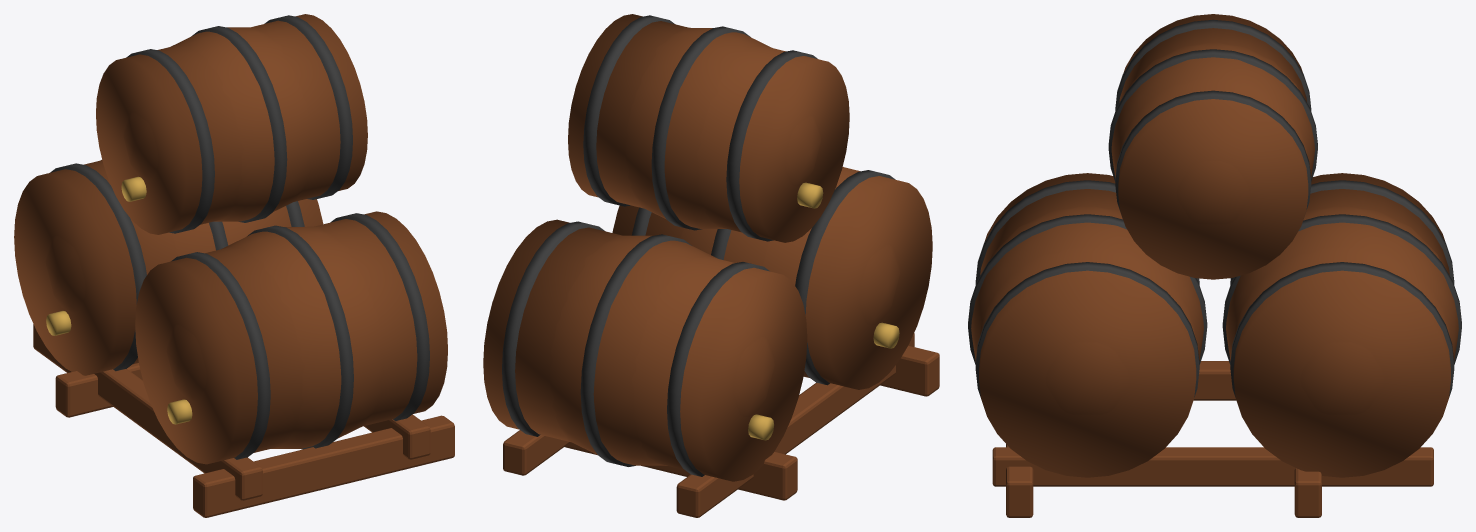
The model's file is botti.glb.
3 views of the same model, side by side, from view 1: azimuth 30°, elevation 25°; view 2: azimuth 150°, elevation 25°; view 3: azimuth 270°, elevation 25° (orthographic). The views are drawn at different scales.
Parts seen in each view (by area): view 1: Cylinder, Cylinder.010, Cylinder.005, Icosphere, Icosphere.002, Cube, Cube.002, Icosphere.001, Cylinder.002, Cylinder.001, Cylinder.003, Cylinder.012 (+8 smaller); view 2: Cylinder.005, Cylinder.010, Cylinder, Icosphere.001, Icosphere.002, Cube.002, Icosphere, Cylinder.007, Cylinder.008, Cylinder.006, Cylinder.012, Cylinder.013 (+8 smaller); view 3: Cylinder.005, Cylinder, Cylinder.010, Icosphere.001, Icosphere, Cube.003, Icosphere.002, Cylinder.003, Cylinder.008, Cylinder.012, Cylinder.007, Cylinder.013 (+7 smaller).
Boxes of the visible parts, x1,y1,x2,y2 form: Cylinder: (135, 211, 447, 464); Cylinder.010: (96, 14, 367, 234); Cylinder.005: (14, 160, 323, 375); Icosphere: (166, 226, 383, 448); Icosphere.002: (123, 27, 312, 221); Cube: (193, 415, 454, 517); Cube.002: (33, 324, 262, 500); Icosphere.001: (45, 160, 256, 313); Cylinder.002: (247, 225, 353, 449); Cylinder.001: (171, 252, 270, 459); Cylinder.003: (330, 213, 429, 421); Cylinder.012: (191, 26, 287, 222); Cylinder.005: (483, 219, 807, 481); Cylinder.010: (568, 14, 849, 242); Cylinder: (612, 167, 932, 389); Icosphere.001: (549, 235, 774, 465); Icosphere.002: (625, 27, 820, 228); Cube.002: (676, 333, 914, 517); Icosphere: (681, 228, 899, 325); Cylinder.007: (580, 234, 691, 466); Cylinder.008: (502, 221, 604, 436); Cylinder.006: (667, 262, 769, 476); Cylinder.012: (651, 26, 750, 230); Cylinder.013: (583, 15, 674, 206); Cylinder.005: (1233, 173, 1450, 477); Cylinder: (979, 173, 1196, 477); Cylinder.010: (1118, 14, 1308, 279); Icosphere.001: (1226, 206, 1458, 414); Icosphere: (971, 206, 1203, 414); Cube.003: (992, 447, 1433, 486); Icosphere.002: (1111, 43, 1314, 224); Cylinder.003: (975, 262, 1199, 397); Cylinder.008: (1230, 262, 1454, 397); Cylinder.012: (1108, 49, 1317, 181); Cylinder.007: (1222, 214, 1461, 364); Cylinder.013: (1115, 90, 1311, 218).
Size of the model in its own units: 0.9 by 1.31 by 1.45.
